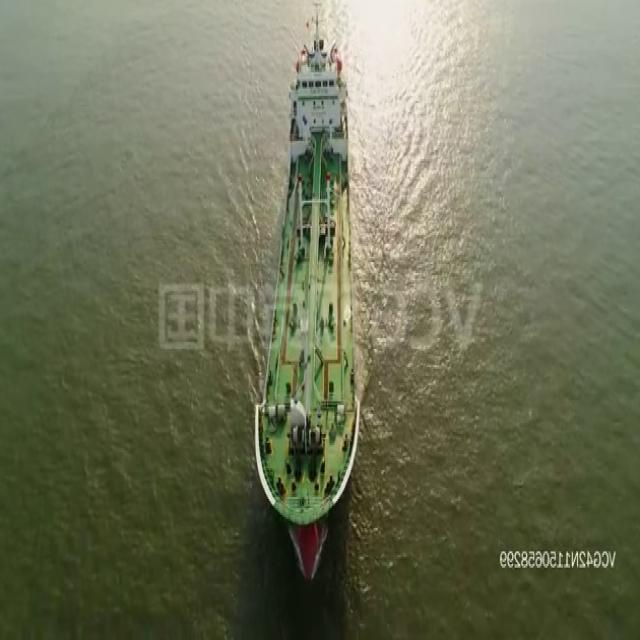cargoship: (251, 24, 364, 572)
